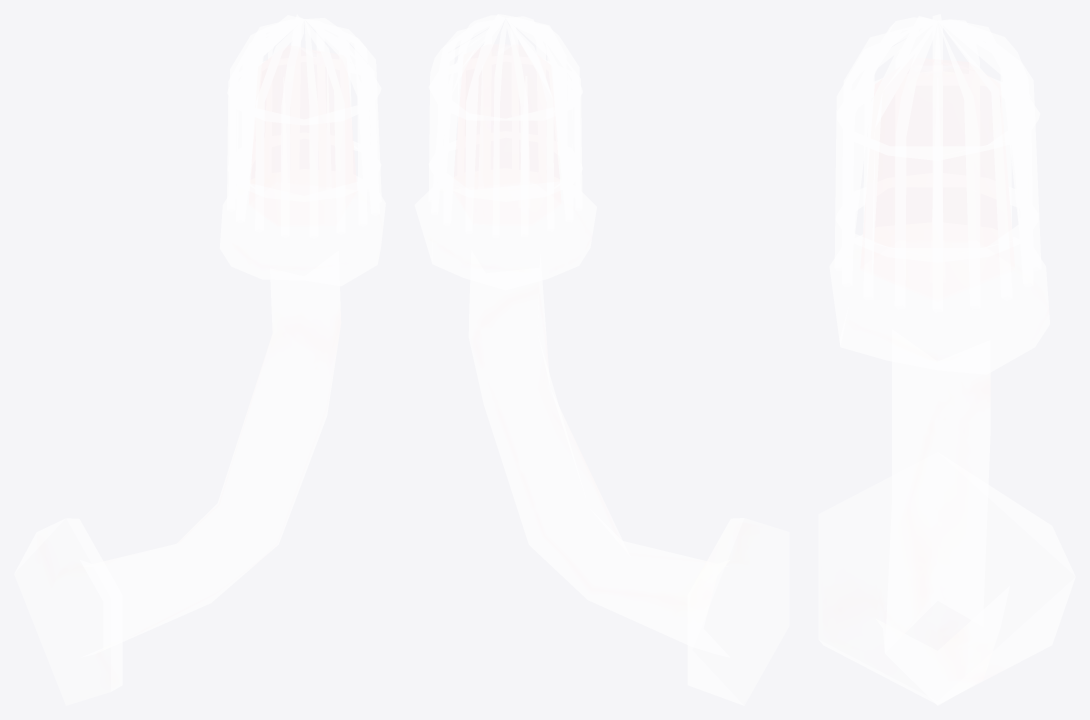
The model's file is ew-warning-light.lod0.glb.
3 views of the same model, side by side, from view 1: azimuth 30°, elevation 25°; view 2: azimuth 150°, elevation 25°; view 3: azimuth 270°, elevation 25° (orthographic). The views are drawn at different scales.
Parts seen in each view (by area): view 1: pipers_old_0; view 2: pipers_old_0; view 3: pipers_old_0.
Part boxes in pixels (bbox=[...]): pipers_old_0: bbox=[14, 14, 385, 705]; pipers_old_0: bbox=[414, 14, 789, 705]; pipers_old_0: bbox=[818, 14, 1075, 705].
Size of the model in its own units: 0.2075 by 0.4 by 0.1118.
Materials: 1 (1 with a texture image).
